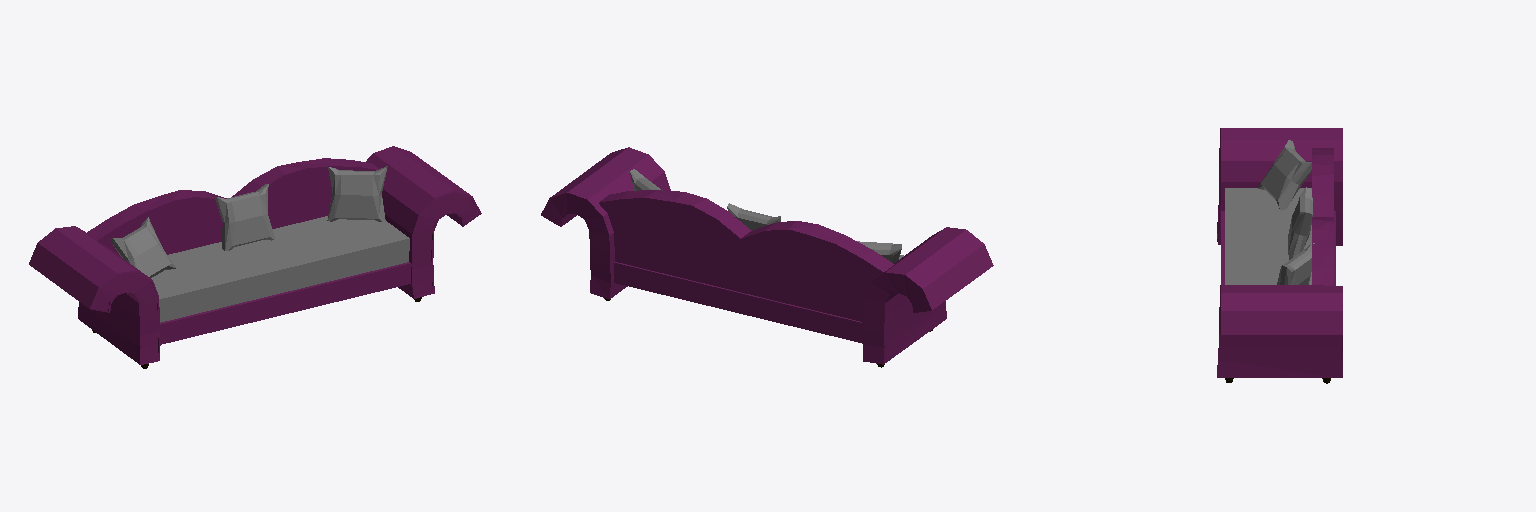
The model's file is paintex.obj.
3 renders of one model, left to right at view 1: azimuth 30°, elevation 25°; view 2: azimuth 150°, elevation 25°; view 3: azimuth 270°, elevation 25°, orthographic.
Visible parts, largest first — view 1: armrest1 armrest2, cush1 cush2, b1 b2, p1 p3 p2, base; view 2: b1 b2, armrest1 armrest2, base, p1 p3 p2; view 3: armrest1 armrest2, cush1 cush2, p1 p3 p2, b1 b2.
Boxes of the visible parts, x1,y1,x2,y2 form: armrest1 armrest2: [29, 146, 481, 364]; cush1 cush2: [151, 216, 409, 322]; b1 b2: [87, 158, 378, 256]; p1 p3 p2: [109, 166, 387, 277]; base: [160, 262, 410, 344]; b1 b2: [599, 190, 894, 321]; armrest1 armrest2: [541, 147, 993, 364]; base: [614, 262, 862, 343]; p1 p3 p2: [630, 169, 901, 263]; armrest1 armrest2: [1217, 128, 1342, 377]; cush1 cush2: [1225, 188, 1311, 284]; p1 p3 p2: [1258, 140, 1314, 284]; b1 b2: [1312, 148, 1333, 285].
Size of the model in its own units: 18.64 by 5.41 by 5.23.